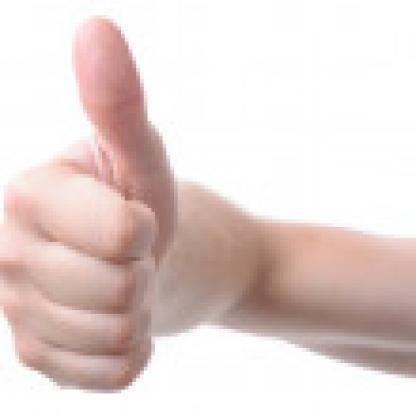thumb_up: (2, 12, 194, 404)
